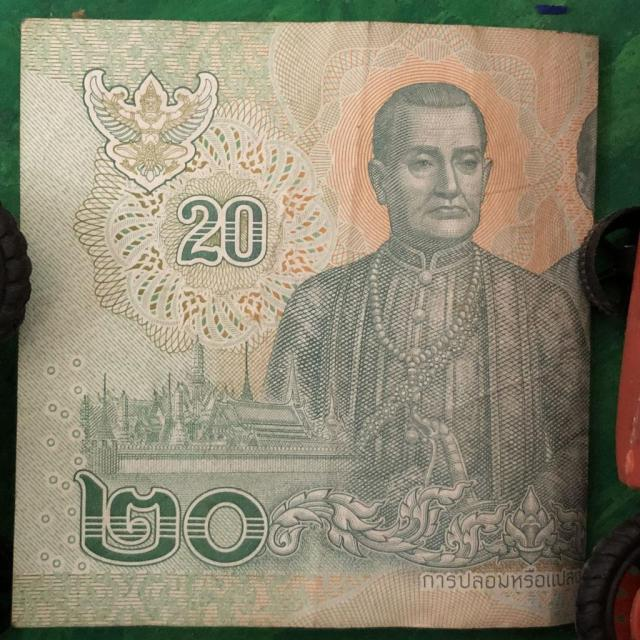THAI20: (12, 19, 598, 628)
